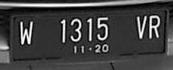1: (58, 18, 68, 48), (85, 16, 95, 43)
3: (68, 16, 83, 45)
5: (95, 15, 110, 42)
R: (148, 12, 161, 40)
V: (135, 15, 147, 41)
W: (18, 18, 34, 47)
